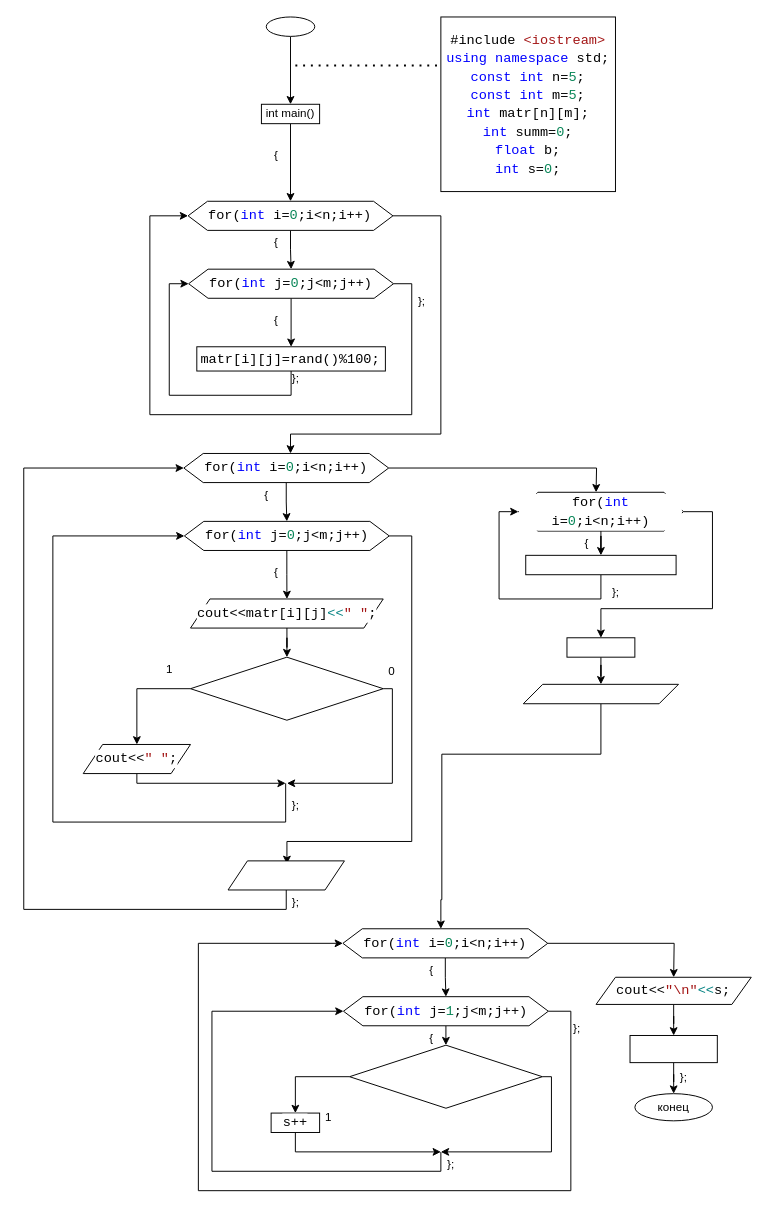
The diagram is 768 pixels wide and 1215 high, and some of its shapes have lost their labels. The centre of each missing label's shape, as x and y in pixels:
b=summ/n;: the point at 600,647
cout<< "\n" << b;: the point at 600,693
cout<<endl;: the point at 285,875
if(matr[i][j]< 10 ): the point at 286,688
if(matr[i][j]>b): the point at 445,1076
return 0 ;: the point at 673,1049
summ+=matr[i][0];: the point at 600,564
Начало: the point at 290,26
